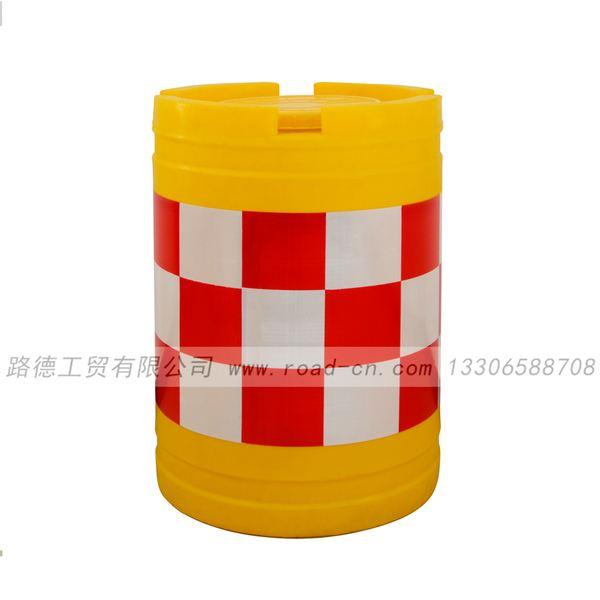sign: (136, 63, 461, 543)
